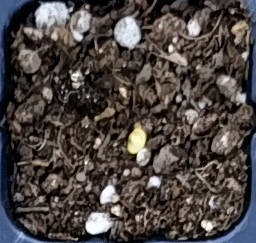pepper seed: (53, 48, 200, 202)
